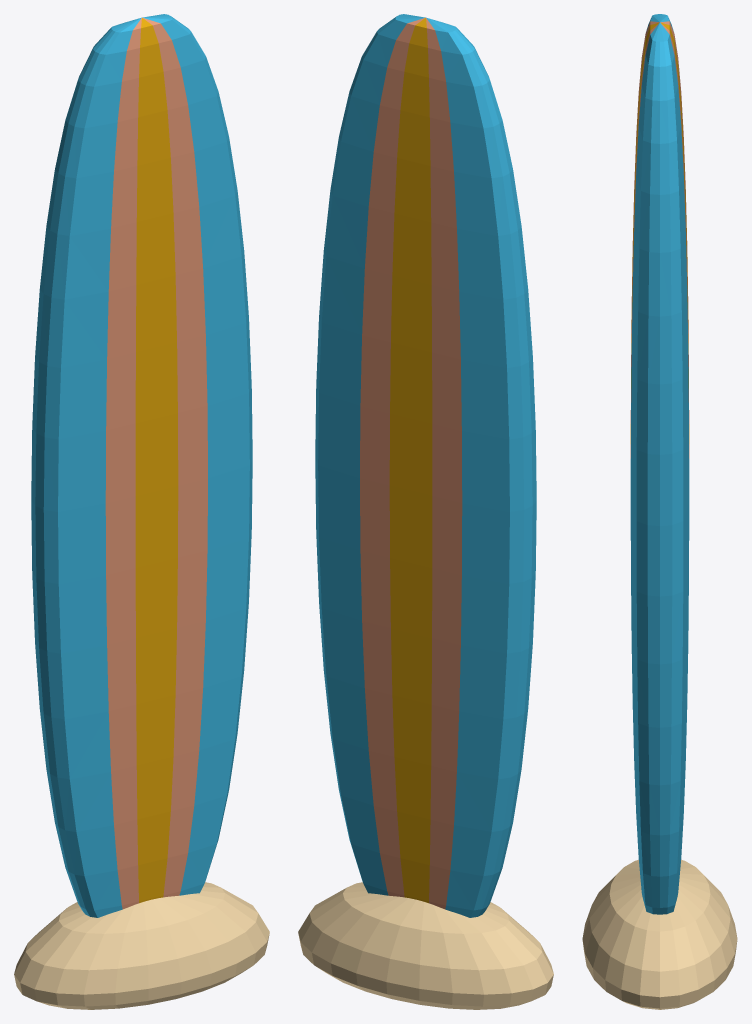
Rendered from surfboardStand.glb.
3 renders of one model, left to right at view 1: azimuth 30°, elevation 25°; view 2: azimuth 150°, elevation 25°; view 3: azimuth 270°, elevation 25°, orthographic. The views are drawn at different scales.
Visible parts, largest first — view 1: surfboardStand; view 2: surfboardStand; view 3: surfboardStand.
Boxes of the visible parts, x1=… form: surfboardStand: x1=14, y1=14, x2=269, y2=1009; surfboardStand: x1=298, y1=14, x2=553, y2=1009; surfboardStand: x1=582, y1=14, x2=737, y2=1009.
Bounding box in the file's own units: 0.8 × 3 × 0.45.
1 material, 1 textured.
